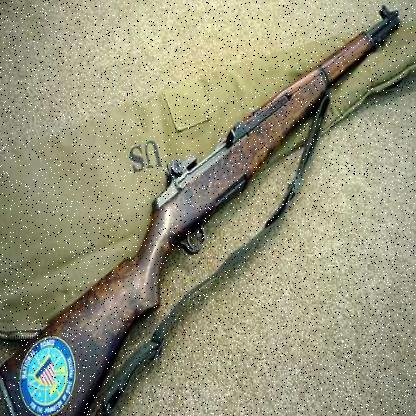rifle: (0, 10, 410, 415)
